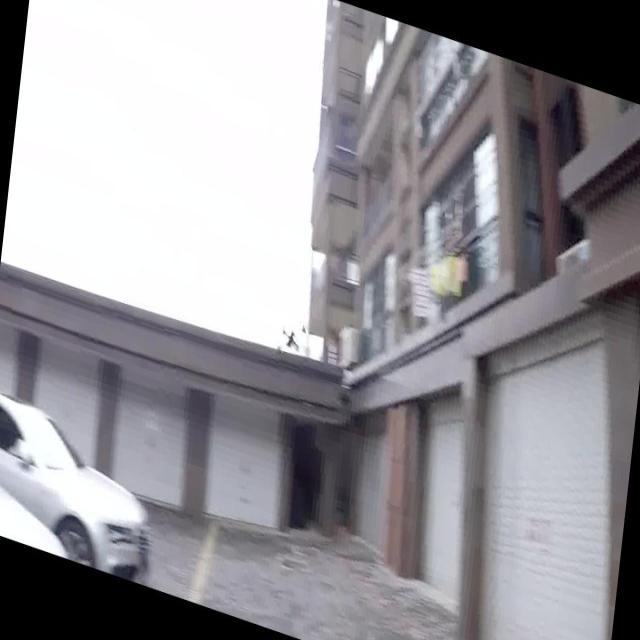drone: (277, 316, 302, 359)
